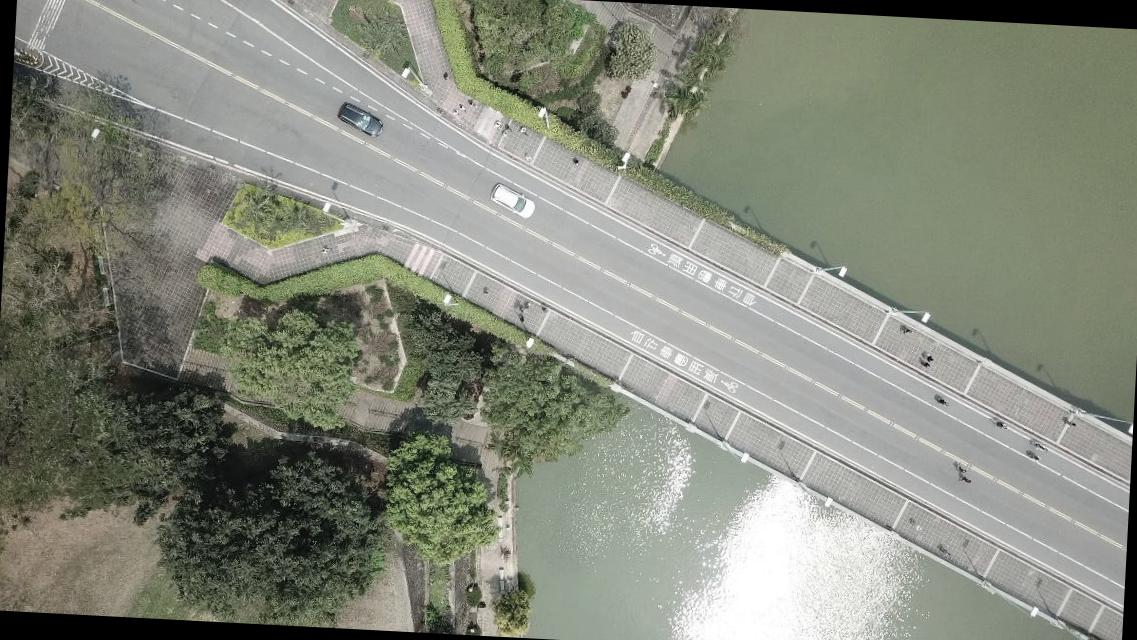vehicle: (488, 183, 535, 220), (335, 102, 383, 138)
